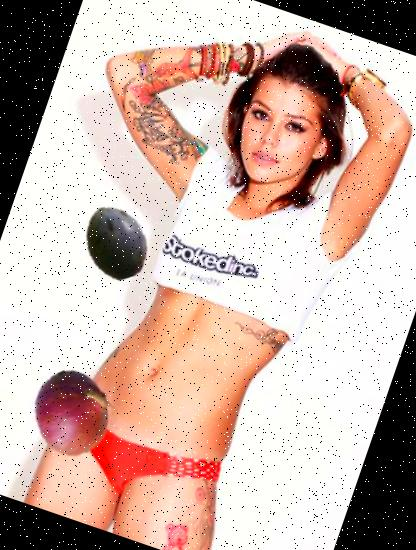Onion: (20, 358, 128, 468)
Plum: (68, 194, 165, 291)
